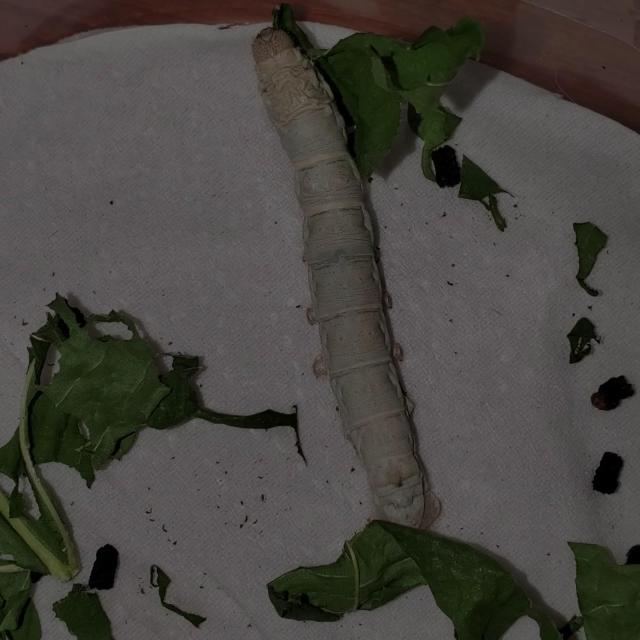Healthy: (246, 16, 444, 534)
